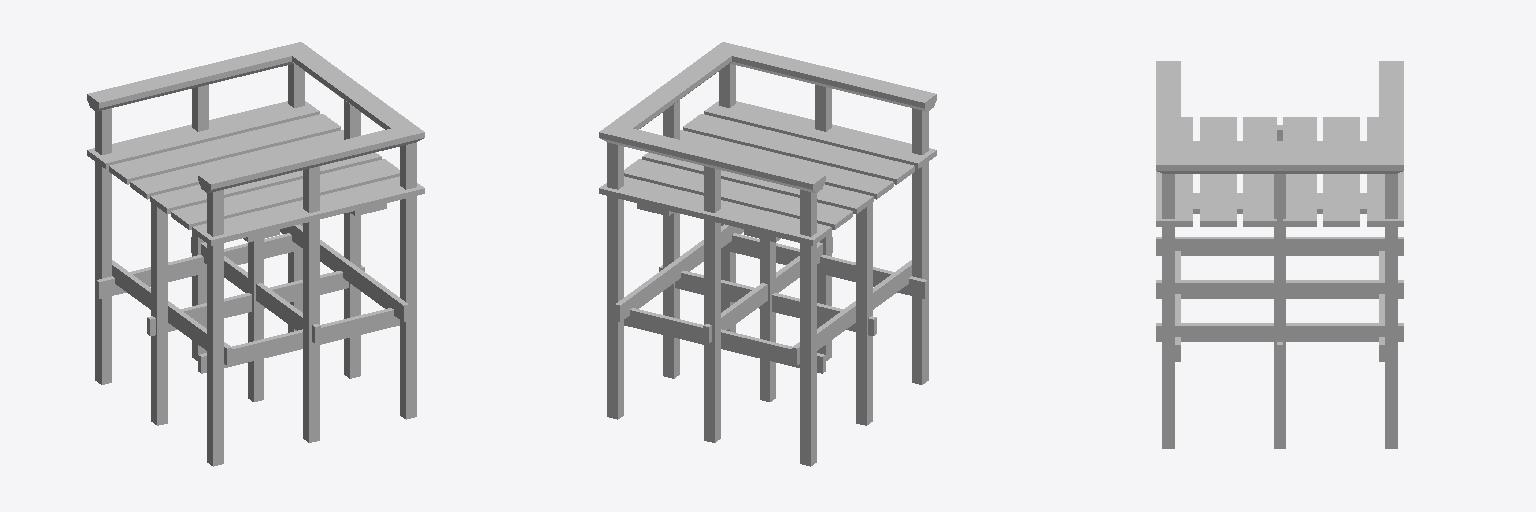
Rendered from scaffold_high_cornerBoth.obj.
The picture shows the model from 3 angles: view 1: azimuth 30°, elevation 25°; view 2: azimuth 150°, elevation 25°; view 3: azimuth 270°, elevation 25°; orthographic projection.
Parts seen in each view (by area): view 1: scaffold_high_cornerBoth_Cube.2475; view 2: scaffold_high_cornerBoth_Cube.2475; view 3: scaffold_high_cornerBoth_Cube.2475.
Boxes of the visible parts, x1=… form: scaffold_high_cornerBoth_Cube.2475: x1=87, y1=42, x2=424, y2=466; scaffold_high_cornerBoth_Cube.2475: x1=599, y1=42, x2=936, y2=466; scaffold_high_cornerBoth_Cube.2475: x1=1156, y1=61, x2=1403, y2=448.
Bounding box in the file's own units: 4 × 5.1 × 4.